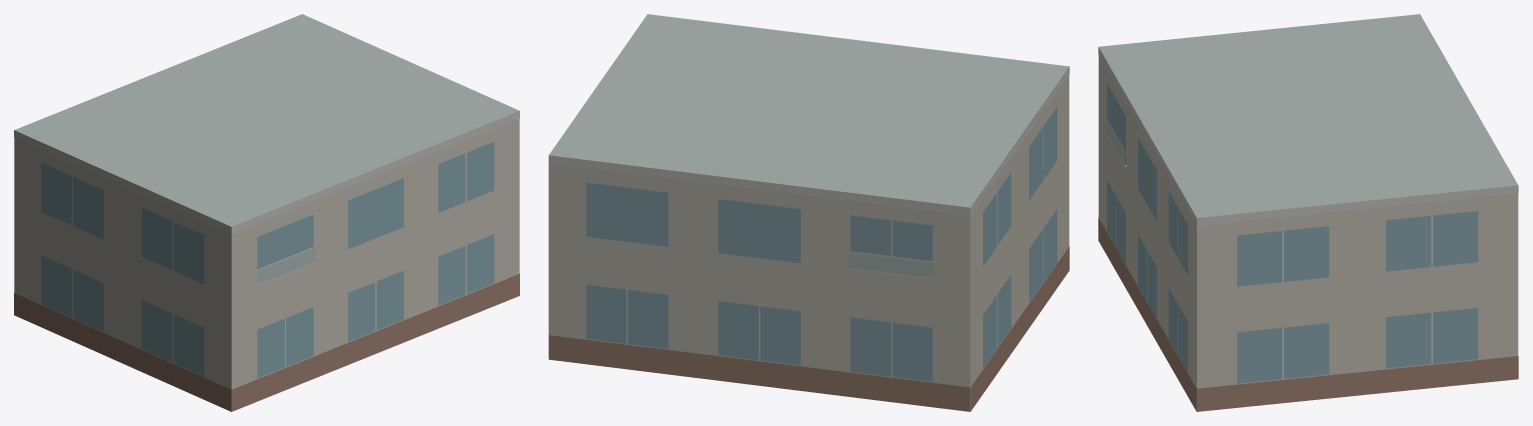
File: survey-upis-32686929.glb
3 views of the same model, side by side, from view 1: azimuth 30°, elevation 25°; view 2: azimuth 150°, elevation 25°; view 3: azimuth 270°, elevation 25° (orthographic). The views are drawn at different scales.
Parts seen in each view (by area): view 1: survey-upis-32686929.tmp; view 2: survey-upis-32686929.tmp; view 3: survey-upis-32686929.tmp.
Boxes of the visible parts, left/top/right/bottom form: survey-upis-32686929.tmp: left=14, top=14, right=519, bottom=411; survey-upis-32686929.tmp: left=548, top=14, right=1069, bottom=411; survey-upis-32686929.tmp: left=1098, top=14, right=1518, bottom=411.
Bounding box in the file's own units: 13.78 × 6.1 × 11.99.
